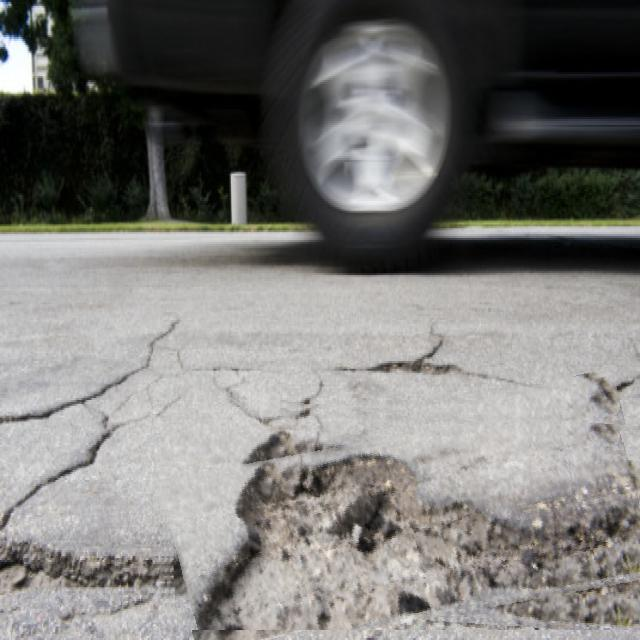Pothole: (161, 394, 640, 630)
